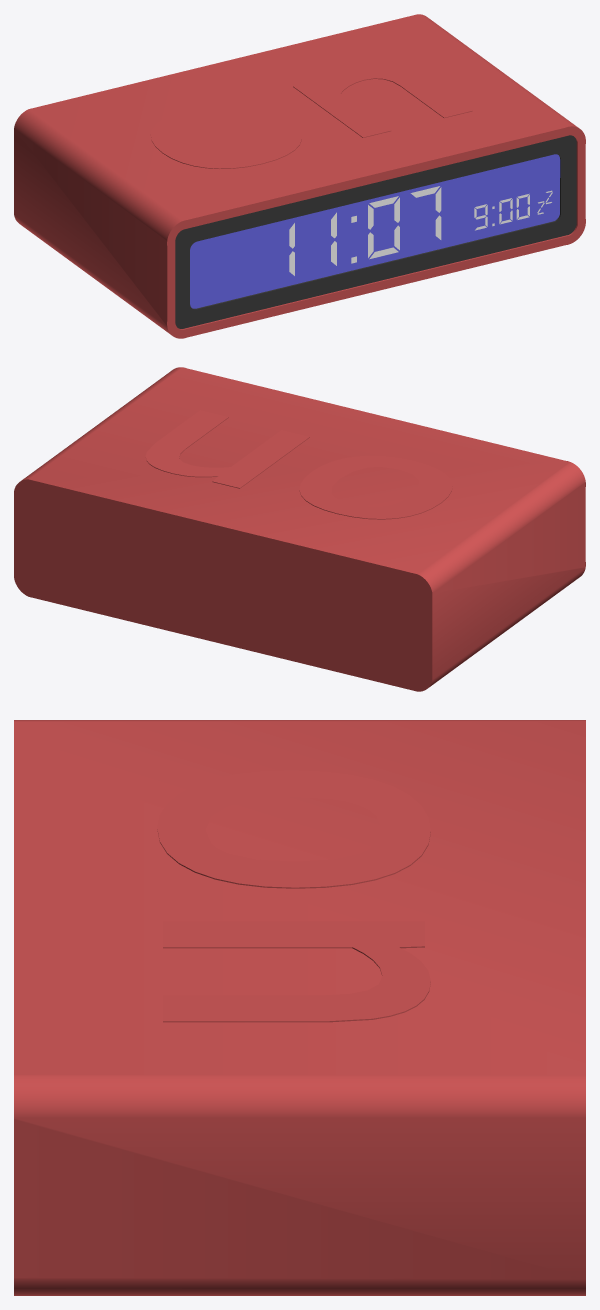
File: clock.dae
3 views of the same model, one above another, from view 1: azimuth 30°, elevation 25°; view 2: azimuth 150°, elevation 25°; view 3: azimuth 270°, elevation 25° (orthographic). The views are drawn at different scales.
Parts seen in each view (by area): view 1: Group_001, Group_003, Group_002, FBXASC049FBXASC0321FBXASC05807_001, FBXASC057FBXASC05800_001; view 2: Group_001; view 3: Group_001.
Boxes of the visible parts, x1,y1,x2,y2 form: Group_001: [14, 14, 585, 338]; Group_003: [190, 154, 560, 308]; Group_002: [175, 135, 576, 328]; FBXASC049FBXASC0321FBXASC05807_001: [289, 186, 441, 275]; FBXASC057FBXASC05800_001: [474, 193, 529, 230]; Group_001: [14, 367, 585, 691]; Group_001: [14, 720, 585, 1295].
Size of the model in its own units: 4.04 by 1.09 by 2.56.
